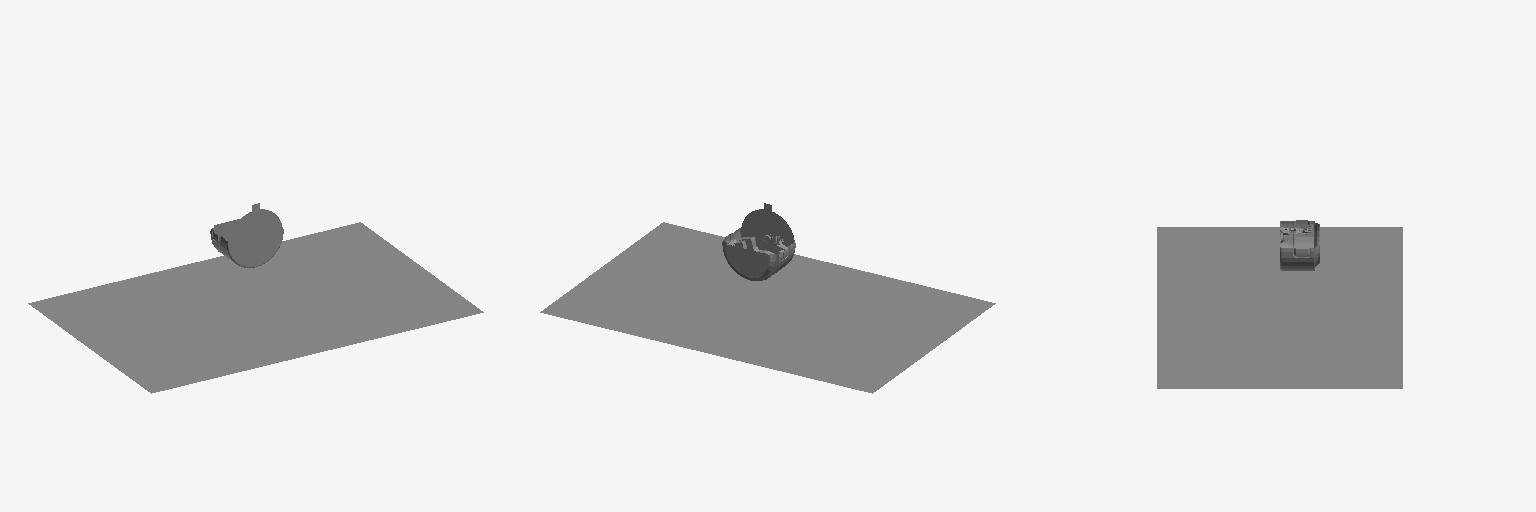
The model's file is HomeInside.obj.
The picture shows the model from 3 angles: view 1: azimuth 30°, elevation 25°; view 2: azimuth 150°, elevation 25°; view 3: azimuth 270°, elevation 25°; orthographic projection.
Parts seen in each view (by area): view 1: BackPlane__WallMT, Floor__CarpetMT00, Floor__CarpetMT01, Mold__WallMT; view 2: BackPlane__WallMT, Mold__WallMT, Floor__CarpetMT00, Floor__CarpetMT01; view 3: BackPlane__WallMT, Mold__WallMT.
Part boxes in pixels (bbox=[...]): BackPlane__WallMT: bbox=[28, 222, 483, 393]; Floor__CarpetMT00: bbox=[237, 203, 274, 257]; Floor__CarpetMT01: bbox=[229, 210, 282, 266]; Mold__WallMT: bbox=[210, 219, 283, 267]; BackPlane__WallMT: bbox=[540, 222, 995, 393]; Mold__WallMT: bbox=[722, 228, 795, 280]; Floor__CarpetMT00: bbox=[749, 203, 786, 252]; Floor__CarpetMT01: bbox=[741, 210, 793, 246]; BackPlane__WallMT: bbox=[1157, 227, 1402, 388]; Mold__WallMT: bbox=[1280, 220, 1319, 270].
Size of the model in its own units: 7499 by 2237 by 4815.